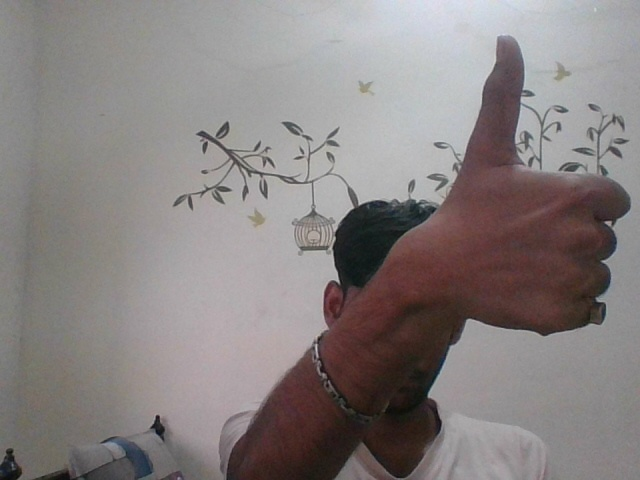Yes: (381, 26, 633, 361)
